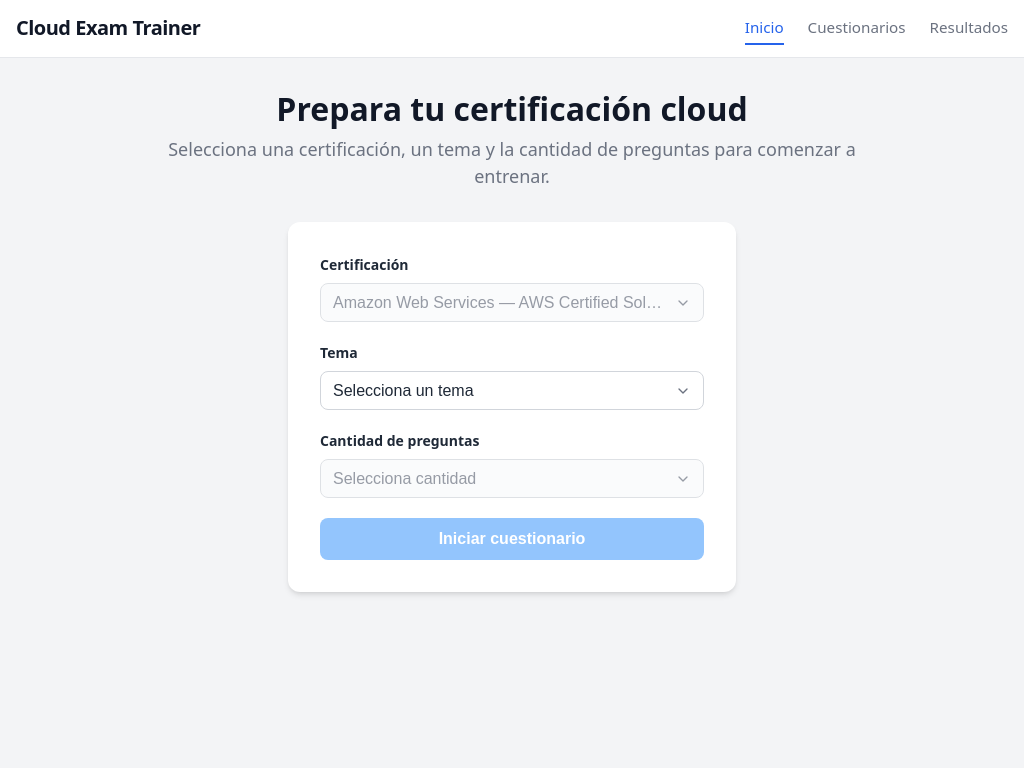
App navigation › navigates to the quiz page without reloading
This screenshot has width=1024, height=768.
What coordinates should you click on to do the following:
click the link "Cuestionarios"
I would click on:
 (857, 28)
Its box is [808,12,906,45].
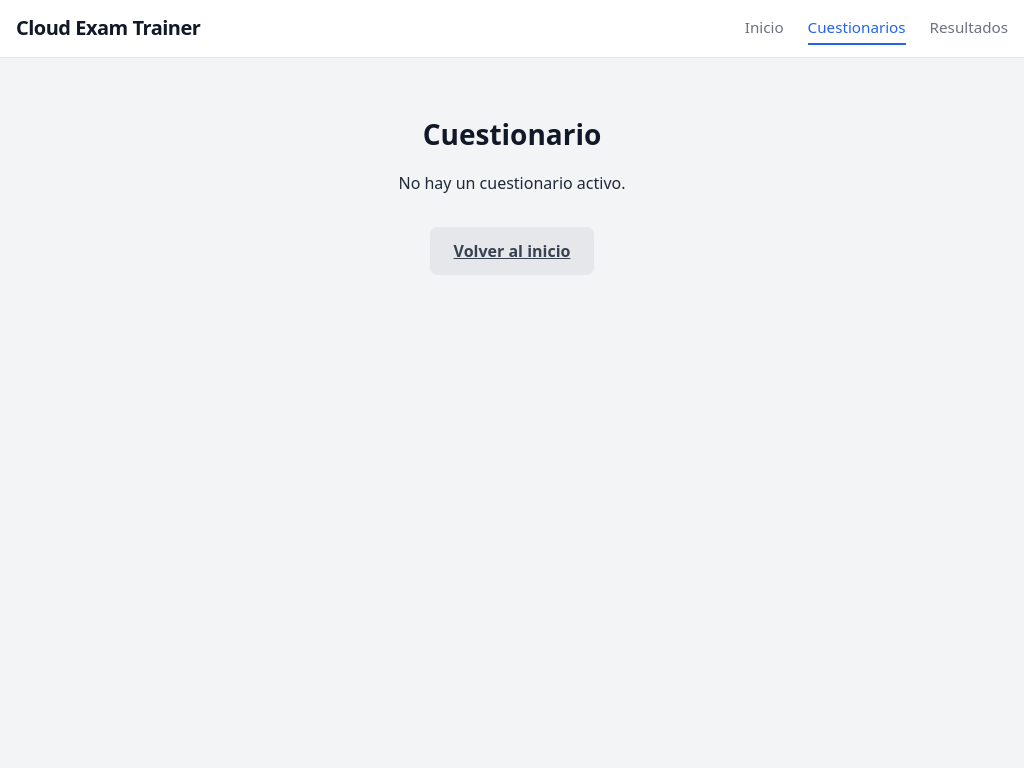
Result: the text "No hay un cuestionario activo." is shown at [398,172,626,194]
